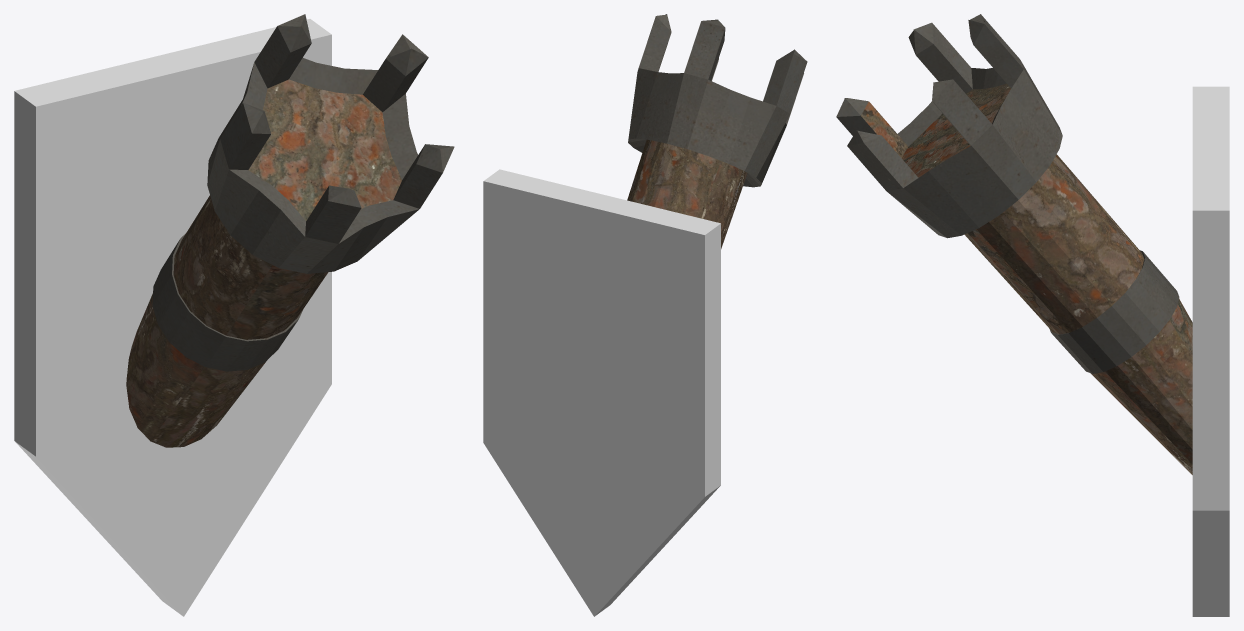
File: Torch(evil).fbx
3 renders of one model, left to right at view 1: azimuth 30°, elevation 25°; view 2: azimuth 150°, elevation 25°; view 3: azimuth 270°, elevation 25°, orthographic. The views are drawn at different scales.
Parts seen in each view (by area): view 1: Cube, Cylinder; view 2: Cube, Cylinder; view 3: Cylinder, Cube.
Boxes of the visible parts, x1,y1,x2,y2 form: Cube: [14, 19, 331, 616]; Cylinder: [126, 14, 454, 447]; Cube: [483, 169, 720, 616]; Cylinder: [627, 14, 807, 248]; Cylinder: [836, 14, 1192, 474]; Cube: [1192, 86, 1229, 616].
Bounding box in the file's own units: 35.36 × 78.99 × 47.5.
